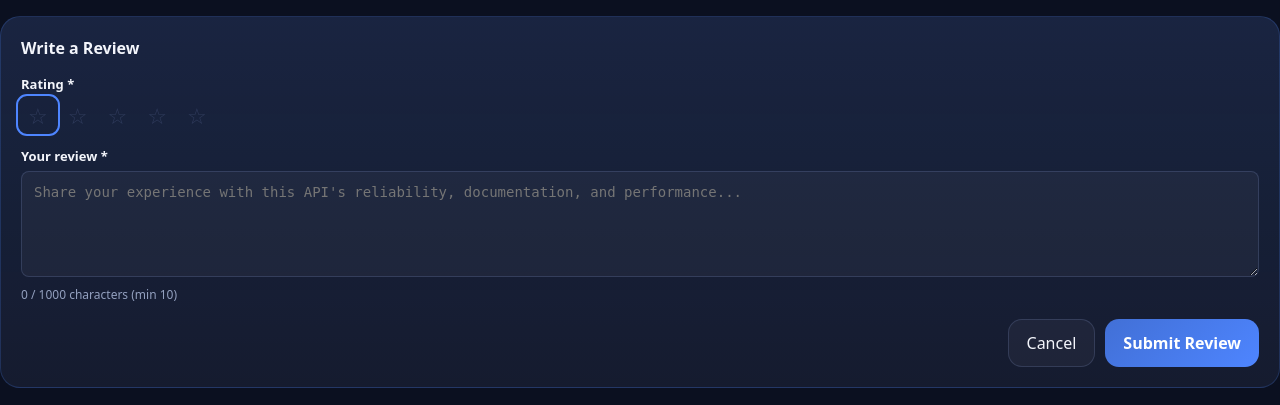
Test case: ReviewForm › prevents double submission when Submit Review is clicked twice rapidly
Step 1. Click the radio button named "5 stars" → click(197, 115), box [180, 99, 214, 131]
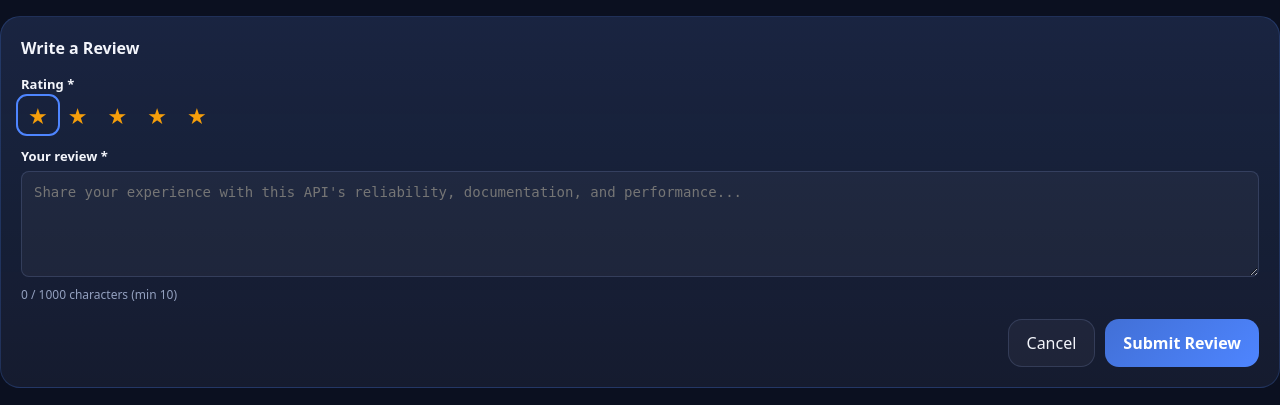
Step 2. Replace the text in the text box labelled "Your review *" with "This API is super fast and reliable!" → (640, 224), box [21, 171, 1259, 277]
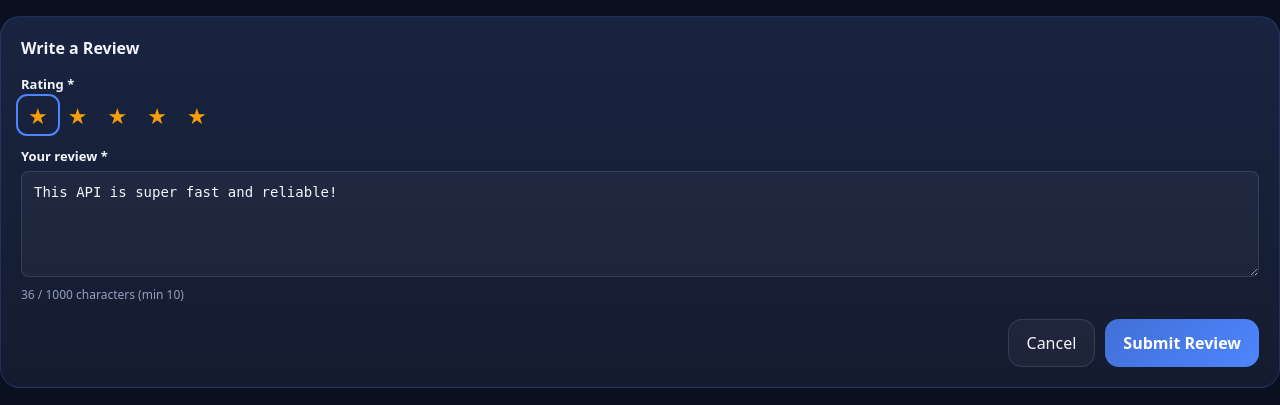
Step 3. Click the button "Submit Review" → click(1182, 343), box [1105, 319, 1259, 367]
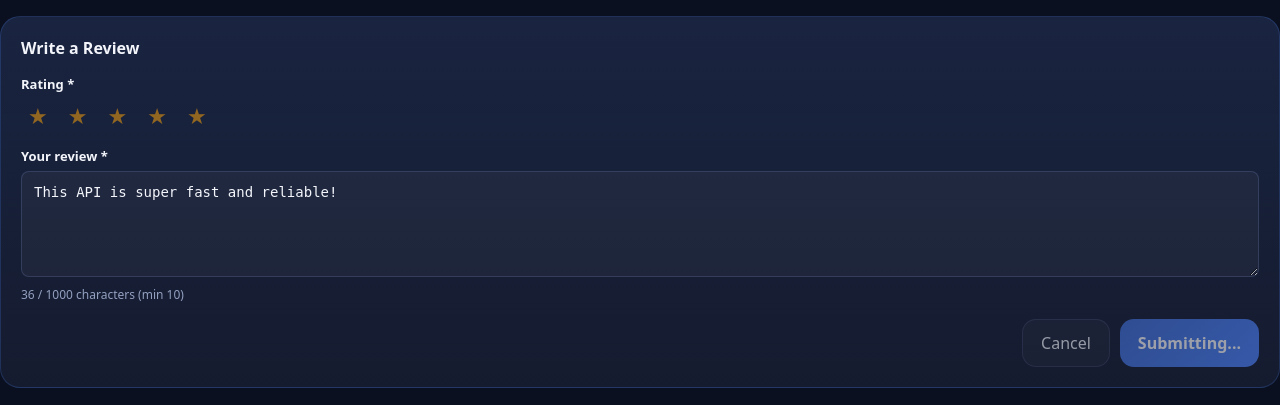
Step 4. Click the button named "Submit Review" → click(1189, 343), box [1120, 319, 1259, 367]
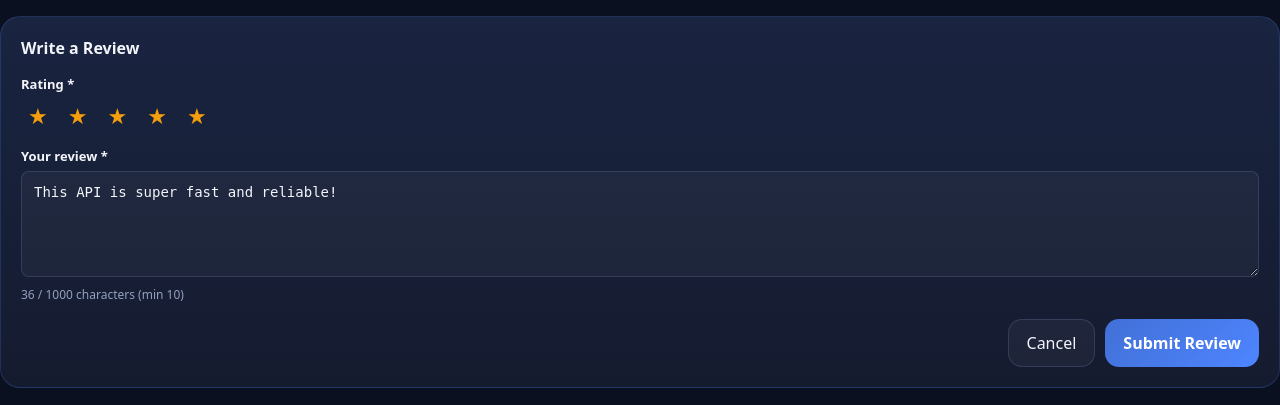
expect the button "Submit Review" is enabled: met, box [1105, 319, 1259, 367]
